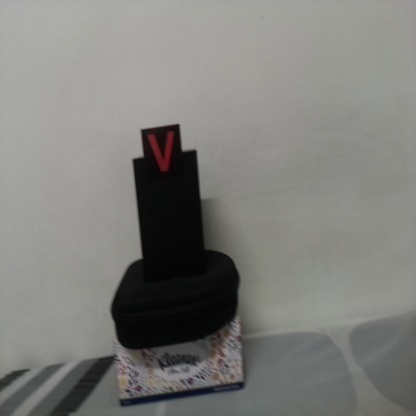id_11: (141, 129, 184, 182)
